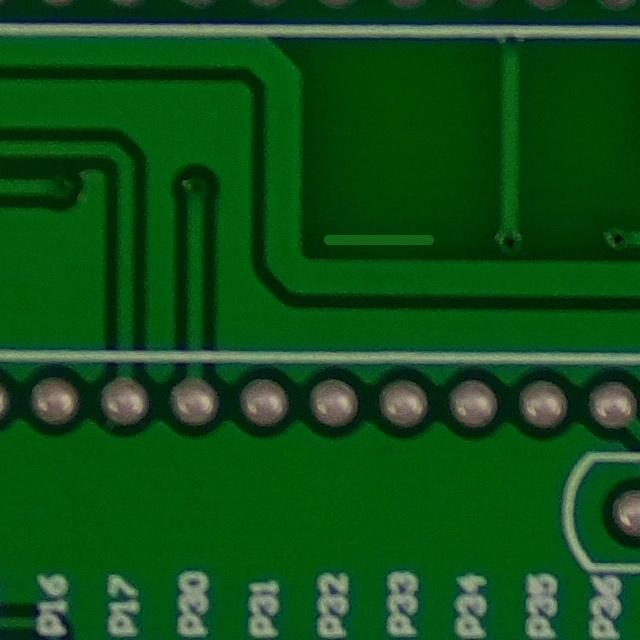spurious_copper: (316, 218, 443, 267)
